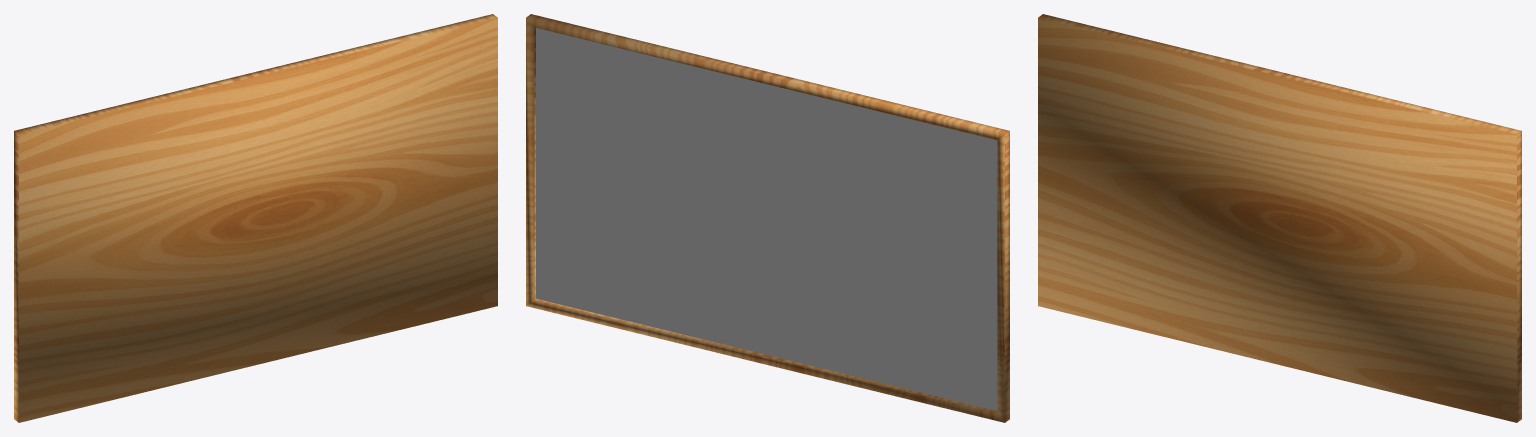
The model's file is Picture_Hang_8_Broken.fbx.
The picture shows the model from 3 angles, left to right: view 1: azimuth 30°, elevation 25°; view 2: azimuth 150°, elevation 25°; view 3: azimuth 330°, elevation 25°; orthographic projection.
Parts seen in each view (by area): view 1: Picture_Hang_8_Broken; view 2: Picture_Hang_8_Complete, Picture_Hang_8_Broken, Picture_Hang_8_Puzzle_7, Picture_Hang_8_Puzzle_28, Picture_Hang_8_Puzzle_21, Picture_Hang_8_Puzzle_14; view 3: Picture_Hang_8_Broken.
Part boxes in pixels (x1,y1,x2,y2): Picture_Hang_8_Broken: (14, 14, 497, 422); Picture_Hang_8_Complete: (536, 28, 997, 410); Picture_Hang_8_Broken: (526, 14, 1009, 422); Picture_Hang_8_Puzzle_7: (920, 125, 997, 213); Picture_Hang_8_Puzzle_28: (920, 328, 997, 410); Picture_Hang_8_Puzzle_21: (933, 260, 997, 349); Picture_Hang_8_Puzzle_14: (933, 191, 997, 281); Picture_Hang_8_Broken: (1038, 14, 1521, 422).
Size of the model in its own units: 284 by 163 by 5.02.
